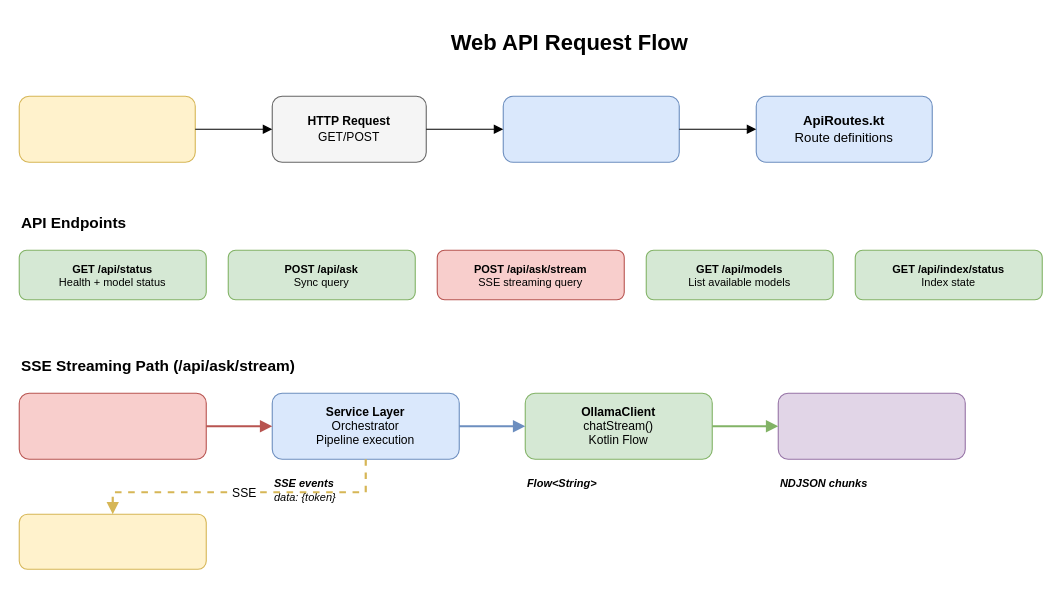
Image size: 1062x589. Some labels were removed from this diagram. The centre of each missing label's shape, as x and y in pixels:
"Browser (FORGE Web UI)" belongs at pixel 106 128.
"EventSource SSE stream to browser" belongs at pixel 112 541.
"ForgeServer (Ktor/Netty)" belongs at pixel 590 128.
"Ollama API POST /api/chat stream: true" belongs at pixel 871 425.
"POST /api/ask/stream {query, projectPath}" belongs at pixel 112 425.
